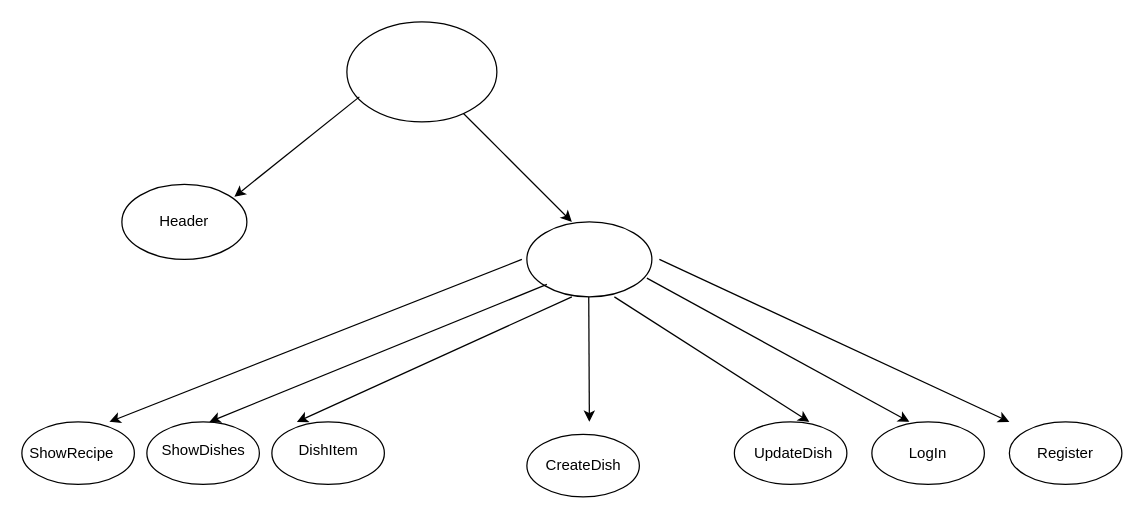
Some shapes in this 1144 by 519 pixel diagram are drawn without their labels. The shapes that lost their labels are listed below. From the top down, each one's centre as x and y in pixels, then its label:
(x=421, y=71): App
(x=589, y=259): Main
